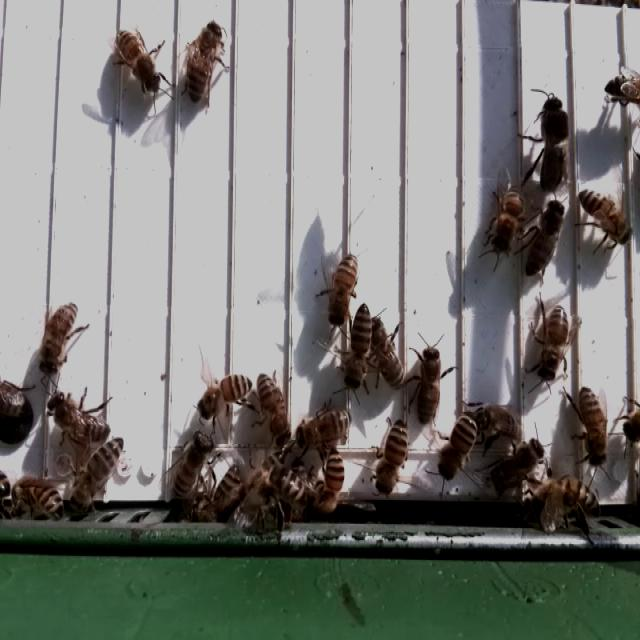Drone: (535, 91, 573, 198)
Worker: (179, 16, 227, 111), (43, 388, 114, 449), (35, 295, 82, 382), (71, 436, 127, 509), (111, 26, 167, 98), (530, 299, 575, 388), (575, 183, 634, 249), (370, 414, 413, 498), (522, 200, 566, 282), (338, 302, 376, 395), (573, 381, 612, 471), (253, 369, 293, 455), (434, 407, 478, 484), (488, 180, 528, 264), (533, 475, 603, 521), (368, 315, 408, 395), (194, 367, 256, 417), (413, 340, 447, 430), (321, 250, 359, 330), (291, 403, 354, 448), (313, 446, 347, 526), (12, 472, 66, 522)
